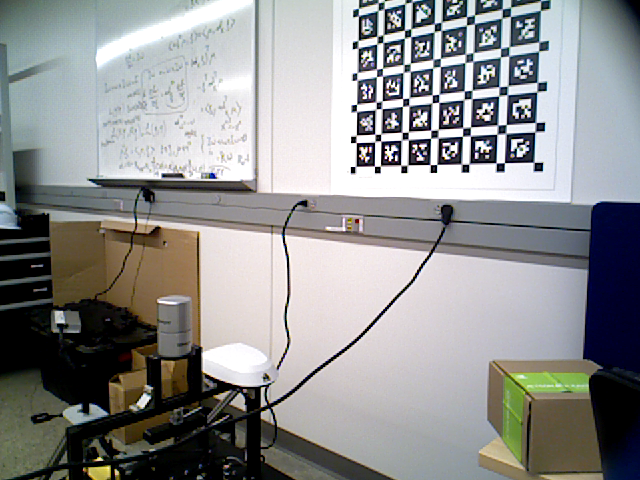painting4: (331, 1, 569, 204)
